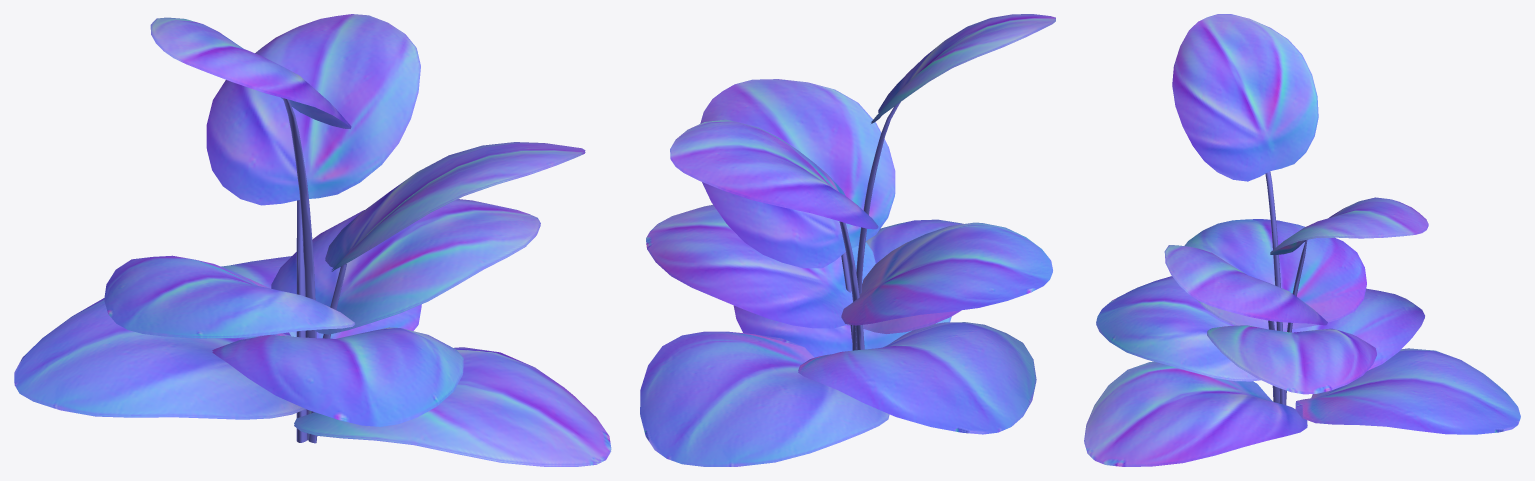
The model's file is Plants1.fbx.
The picture shows the model from 3 angles, left to right: view 1: azimuth 30°, elevation 25°; view 2: azimuth 150°, elevation 25°; view 3: azimuth 270°, elevation 25°; orthographic projection. The views are drawn at different scales.
Parts seen in each view (by area): view 1: Plants1; view 2: Plants1; view 3: Plants1.
Boxes of the visible parts, <box> form: Plants1: <box>14,14,611,466</box>; Plants1: <box>640,14,1055,466</box>; Plants1: <box>1084,14,1520,466</box>.
Size of the model in its own units: 79.28 by 75.24 by 86.89.
Materials: 1 (1 with a texture image).
